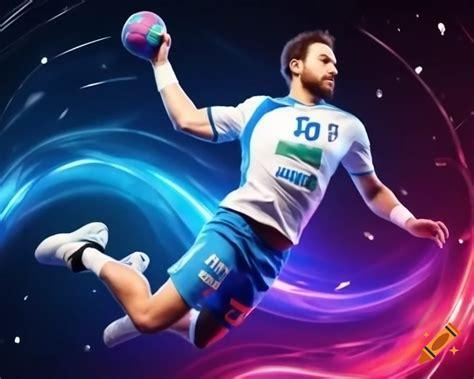ballon_handball: (121, 9, 171, 61)
